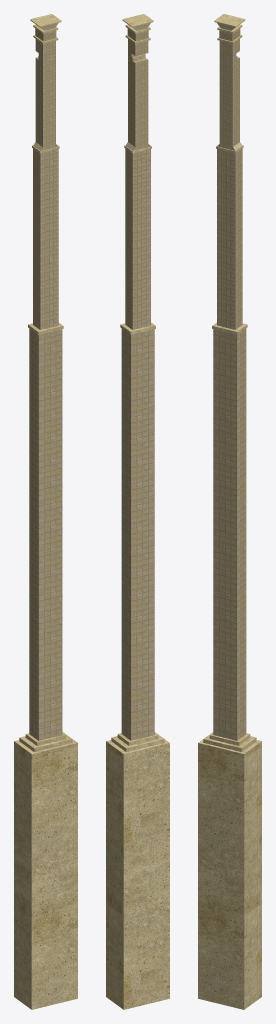
Rendered from bridge_structure_pillar_lower_level_break.dae.
3 views of the same model, side by side, from view 1: azimuth 30°, elevation 25°; view 2: azimuth 210°, elevation 25°; view 3: azimuth 330°, elevation 25° (orthographic).
Parts seen in each view (by area): view 1: bridge_structure_pillar_lower_level_break; view 2: bridge_structure_pillar_lower_level_break; view 3: bridge_structure_pillar_lower_level_break.
Part boxes in pixels (x1,y1,x2,y2): bridge_structure_pillar_lower_level_break: (14,14,77,1009); bridge_structure_pillar_lower_level_break: (106,14,169,1009); bridge_structure_pillar_lower_level_break: (198,14,261,1009).
Size of the model in its own units: 14.33 by 9.57 by 290.
3 materials, 3 textured.
